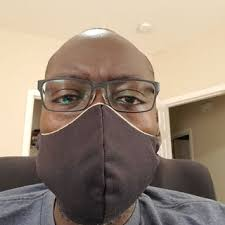masked: (19, 25, 164, 220)
